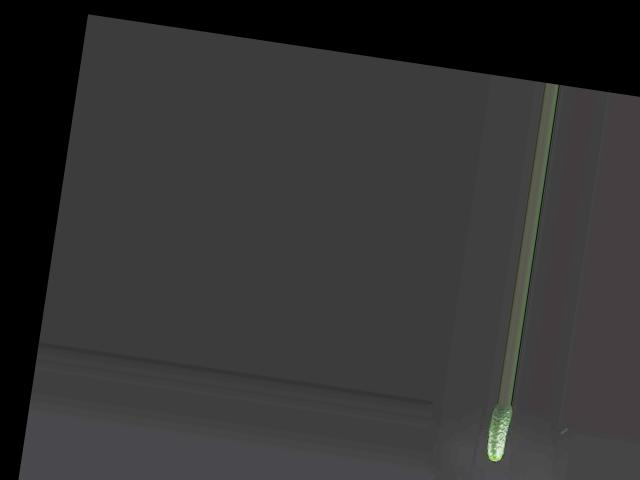cucumber: (485, 401, 514, 463)
